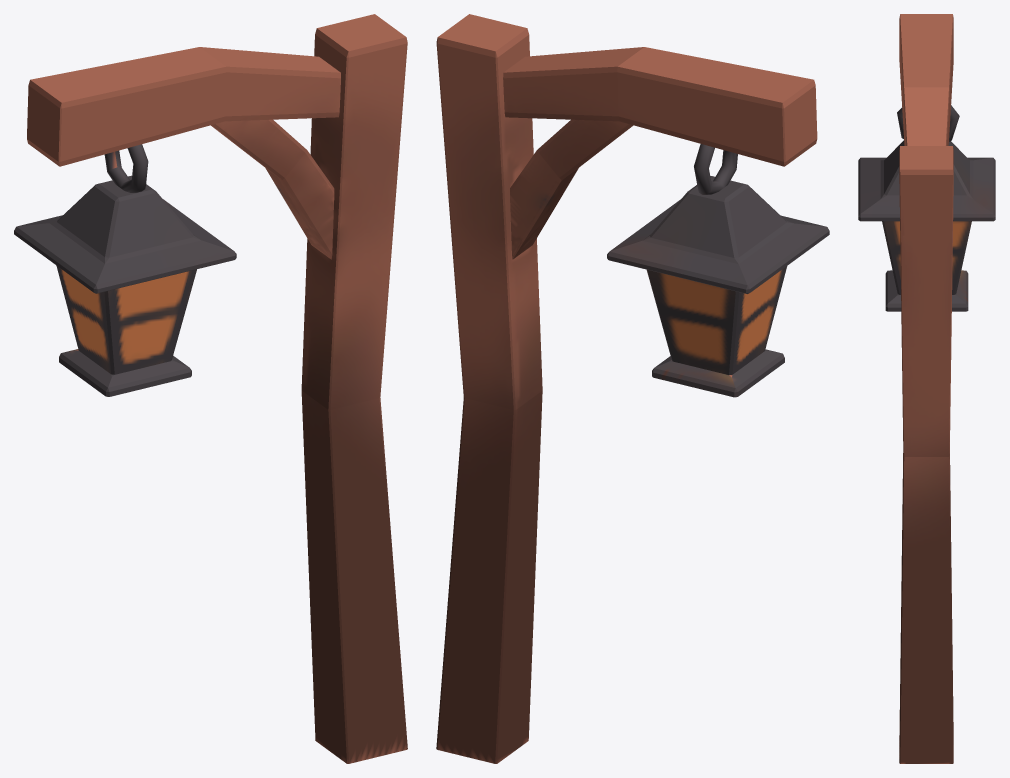
Rendered from lamp.fbx.
3 renders of one model, left to right at view 1: azimuth 30°, elevation 25°; view 2: azimuth 150°, elevation 25°; view 3: azimuth 270°, elevation 25°, orthographic. The views are drawn at different scales.
Parts seen in each view (by area): view 1: Plane; view 2: Plane; view 3: Plane.
Boxes of the visible parts, <box> form: Plane: <box>14,14,407,763</box>; Plane: <box>436,14,829,763</box>; Plane: <box>858,14,995,763</box>.
Size of the model in its own units: 80.83 by 162 by 33.06.
